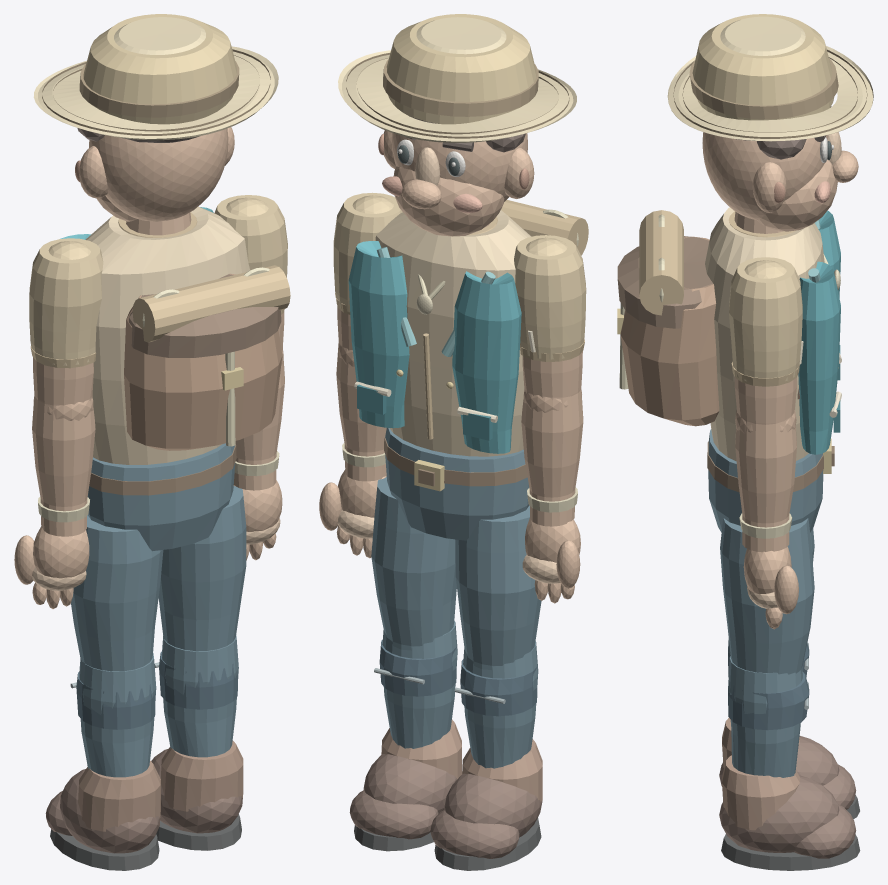
File: survivor_sailor_rig.glb
The picture shows the model from 3 angles, left to right: view 1: azimuth 30°, elevation 25°; view 2: azimuth 150°, elevation 25°; view 3: azimuth 270°, elevation 25°; orthographic projection. The views are drawn at different scales.
Visible parts, largest first — view 1: body_undershirt, pack_body, L_tailored_thigh, R_tailored_thigh, hat_crown, waist_hips, head_cranium, L_shoulder_sleeve, straw_hat_brim, L_forearm, R_pants_shin, L_pants_shin (+31 smaller); view 2: body_undershirt, L_tailored_thigh, R_tailored_thigh, L_vest_body, hat_crown, R_vest_body, waist_hips, straw_hat_brim, L_shoulder_sleeve, L_forearm, R_pants_shin, L_pants_shin (+37 smaller); view 3: pack_body, R_tailored_thigh, hat_crown, body_undershirt, R_shoulder_sleeve, R_vest_body, straw_hat_brim, R_forearm, R_pants_shin, head_cranium, R_boot_upper, blanket_roll (+23 smaller).
Part boxes in pixels (x1,y1,x2,y2): body_undershirt: (85,206,249,464); pack_body: (124,273,282,450); L_tailored_thigh: (71,515,163,671); R_tailored_thigh: (158,486,246,651); hat_crown: (83,14,236,124); waist_hips: (87,443,235,551); head_cranium: (89,128,228,221); L_shoulder_sleeve: (29,238,103,365); straw_hat_brim: (33,46,278,140); L_forearm: (32,396,95,536); R_pants_shin: (161,635,238,757); L_pants_shin: (79,653,156,777); body_undershirt: (375,210,531,456); L_tailored_thigh: (455,505,541,670); R_tailored_thigh: (371,477,456,650); L_vest_body: (452,271,521,453); hat_crown: (386,14,536,124); R_vest_body: (348,241,409,428); waist_hips: (385,427,529,540); straw_hat_brim: (338,50,576,142); L_shoulder_sleeve: (514,235,586,359); L_forearm: (521,389,583,526); R_pants_shin: (382,621,457,748); L_pants_shin: (463,641,538,768); pack_body: (620,236,719,426); R_tailored_thigh: (720,518,814,674); hat_crown: (692,14,834,120); body_undershirt: (705,207,824,461); R_shoulder_sleeve: (729,257,802,381); R_vest_body: (798,261,840,454); straw_hat_brim: (667,46,873,141); R_forearm: (735,412,796,552); R_pants_shin: (728,656,802,777); head_cranium: (702,132,827,220); R_boot_upper: (719,775,839,852); blanket_roll: (639,210,683,315).
Size of the model in its own units: 0.6338 by 1.87 by 0.5421.
